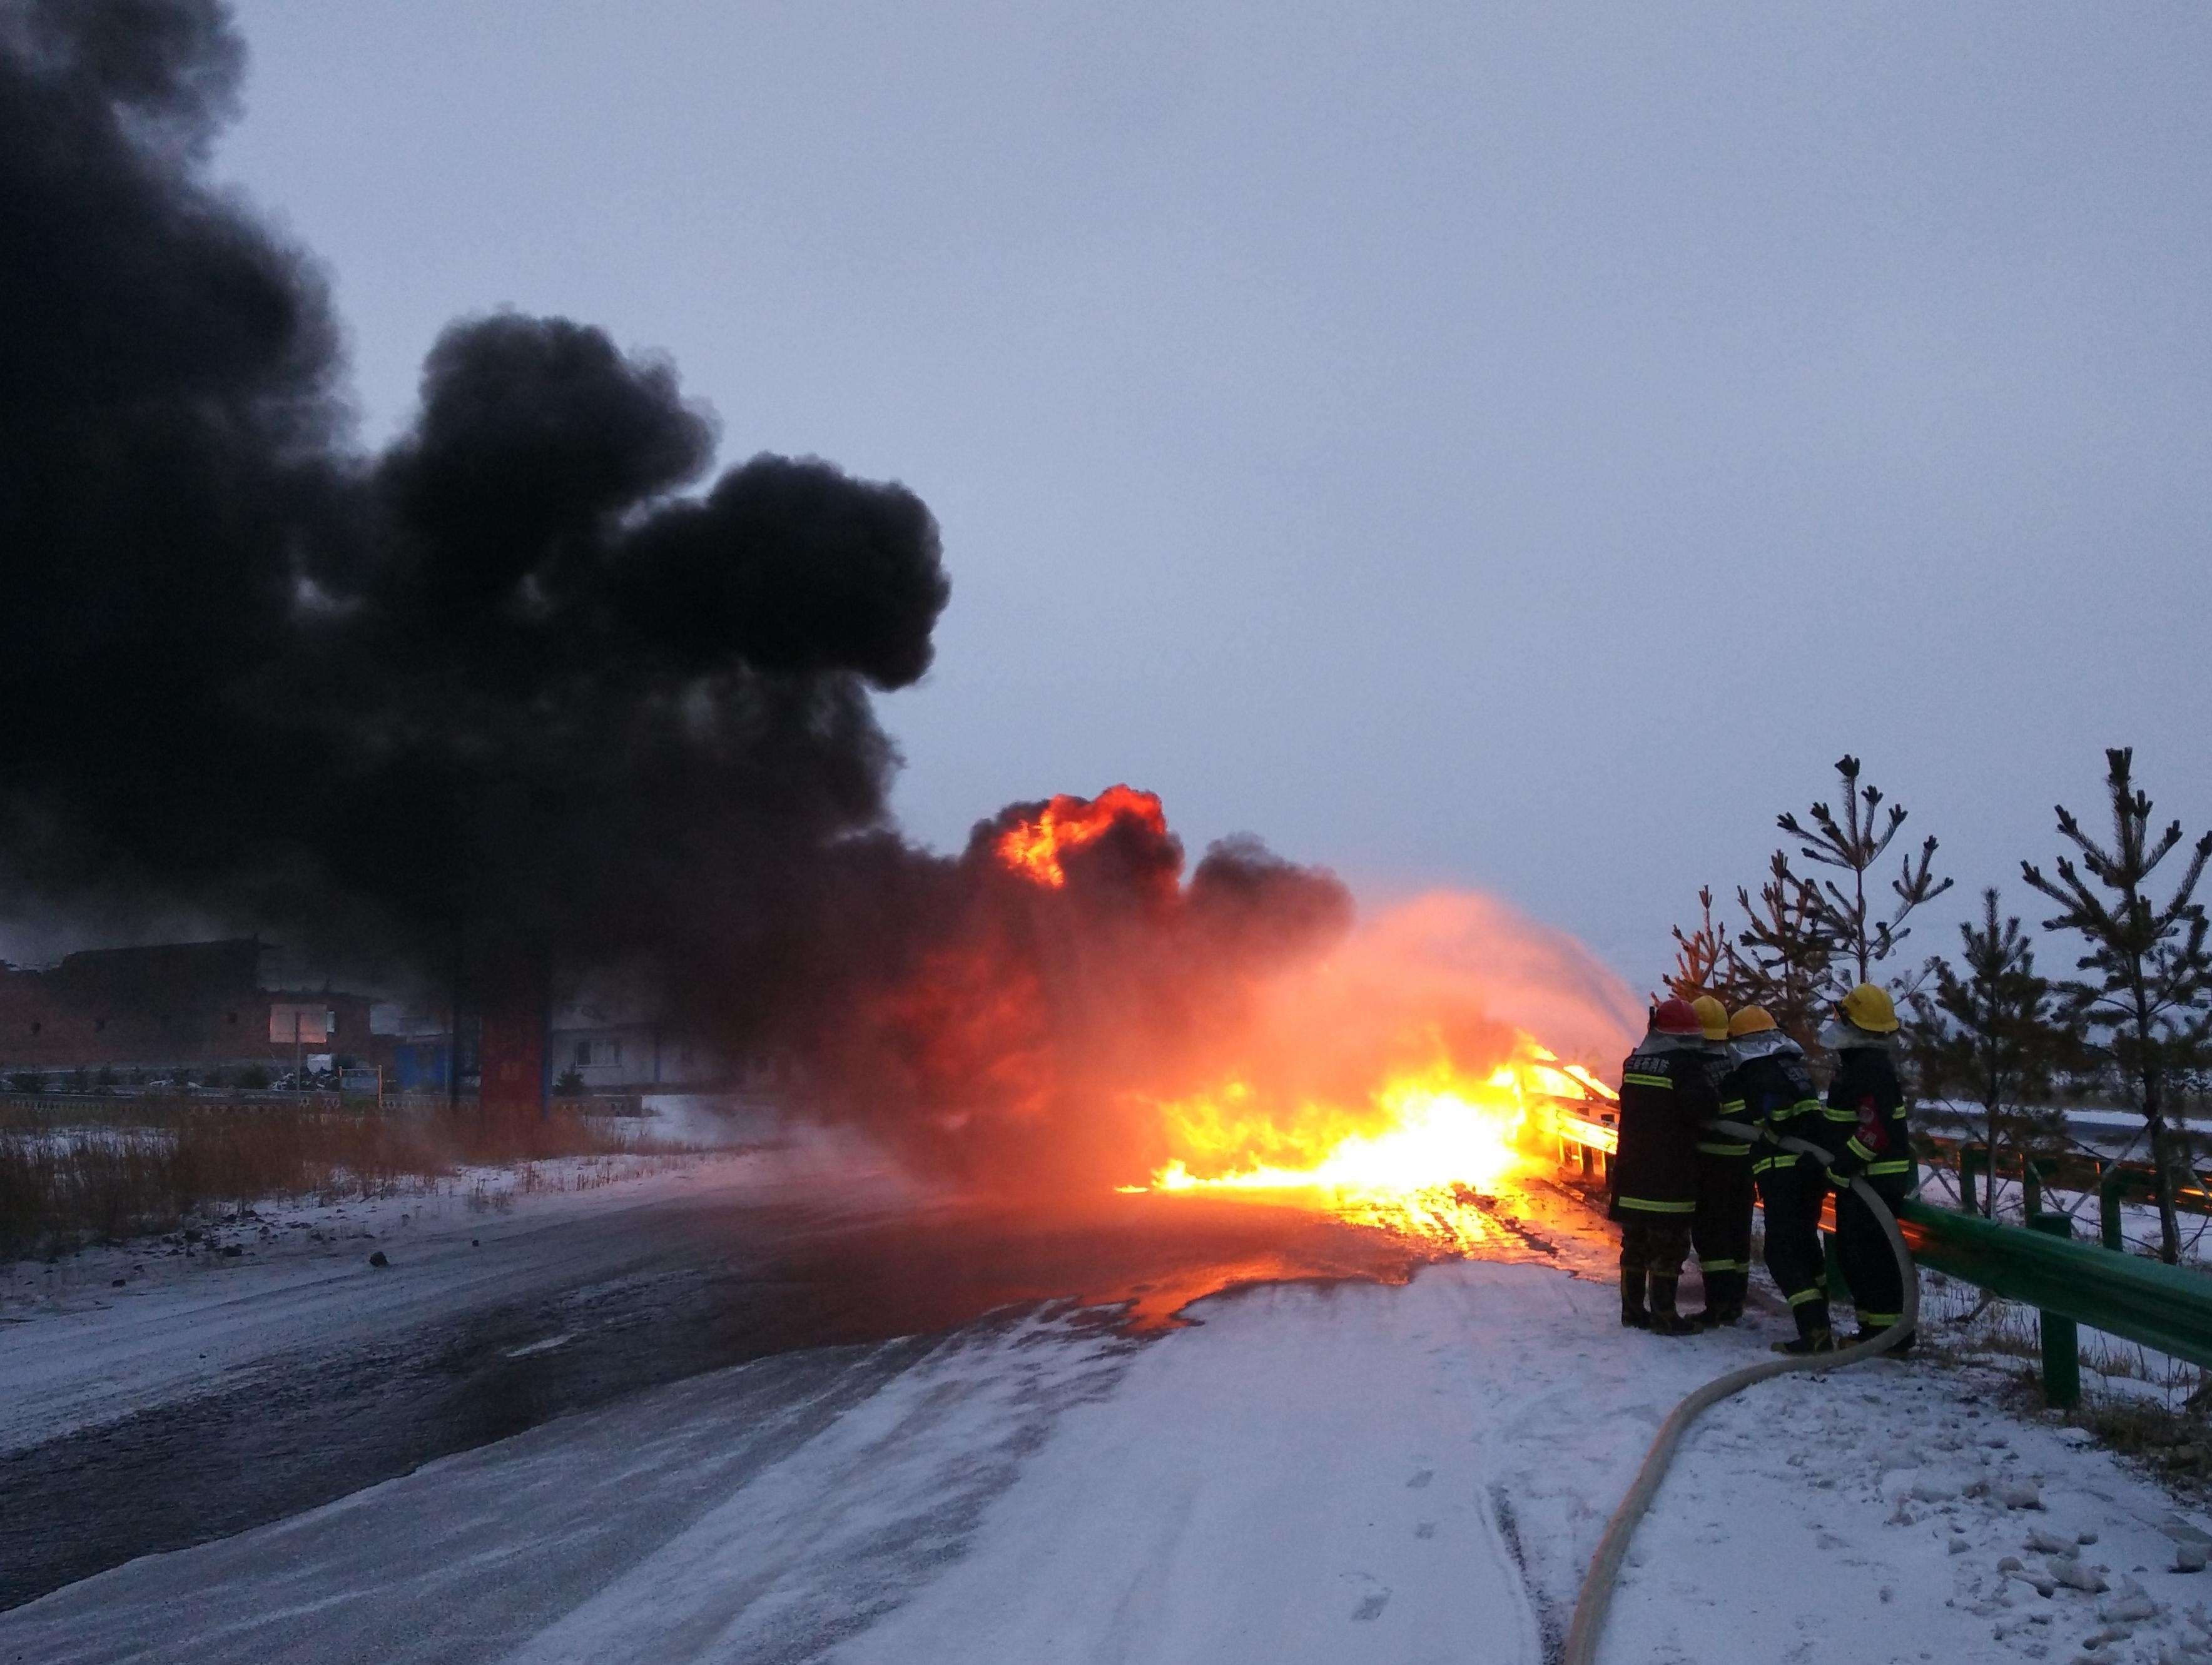fire: (939, 801, 1635, 1242)
